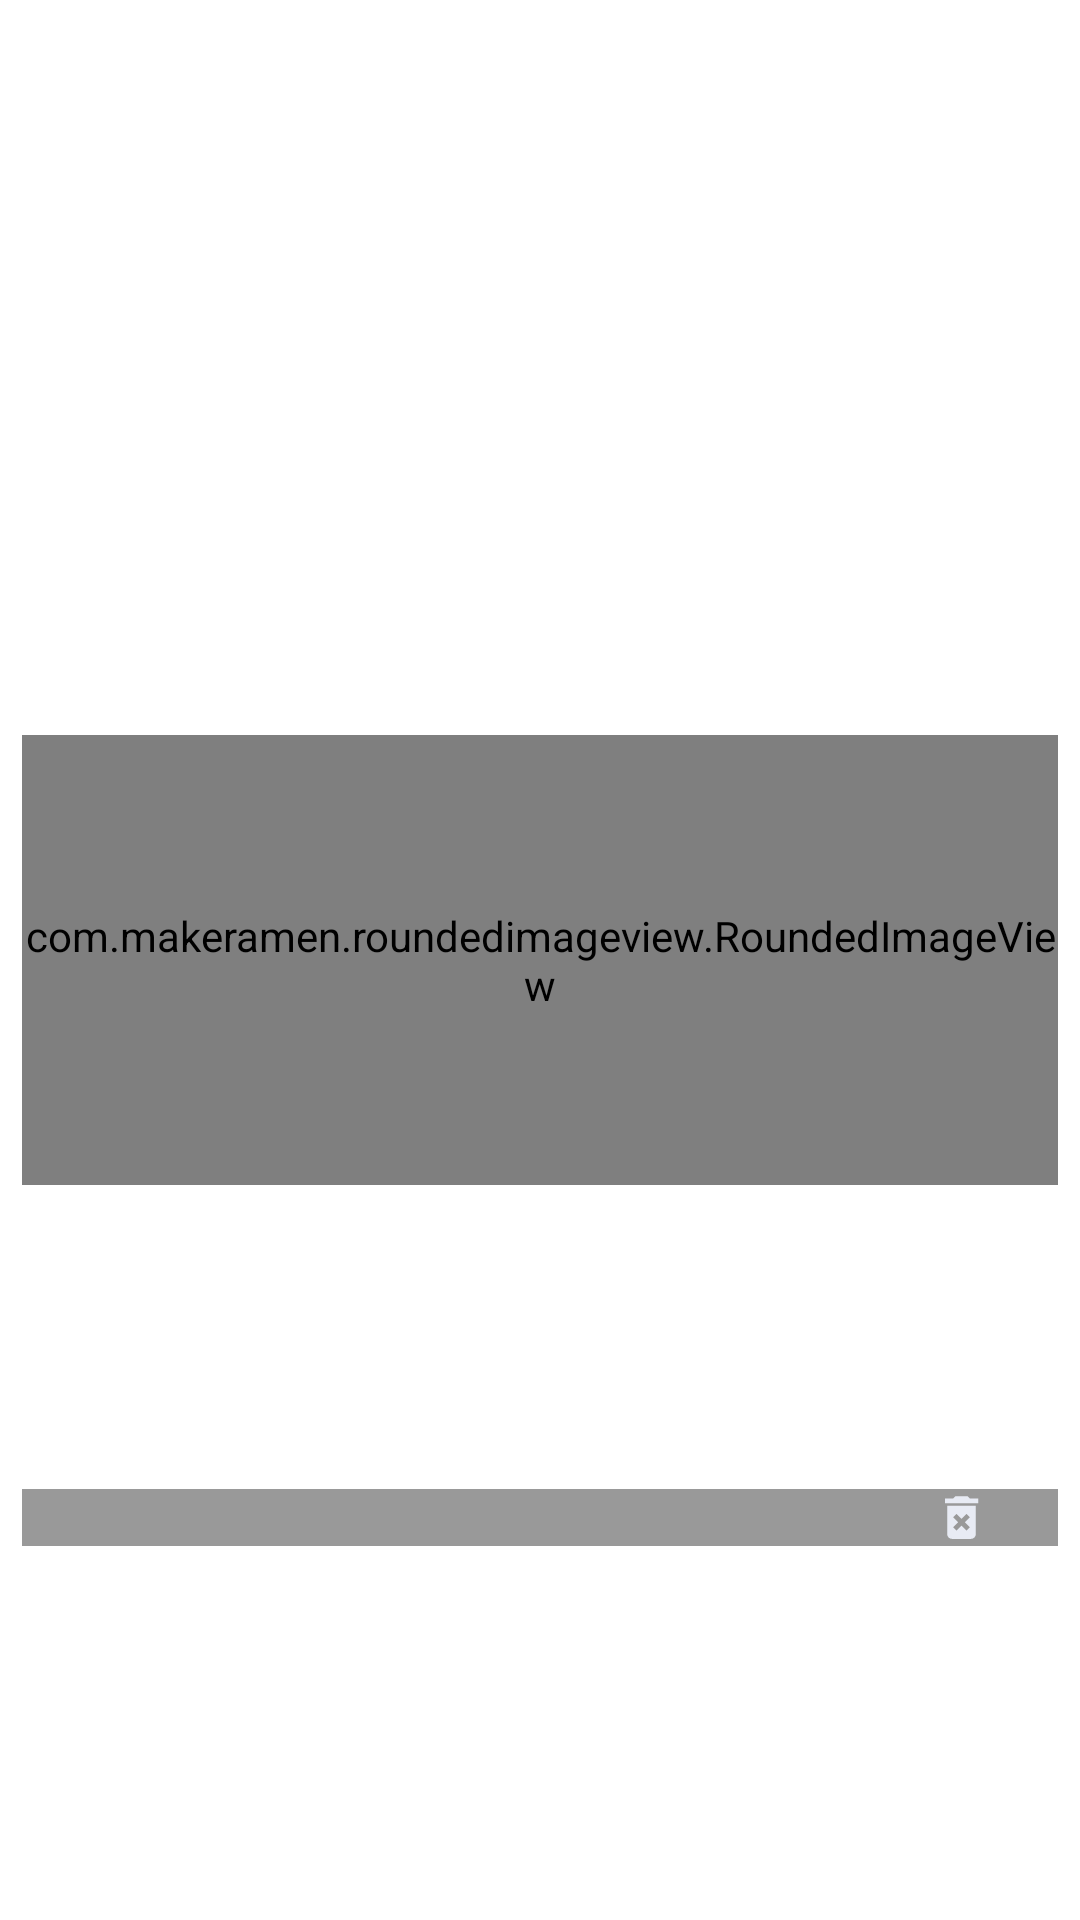

Screen size 1080px×1920px. Icon name, then its center in pixels as (x,y):
delete: (961,1517)
